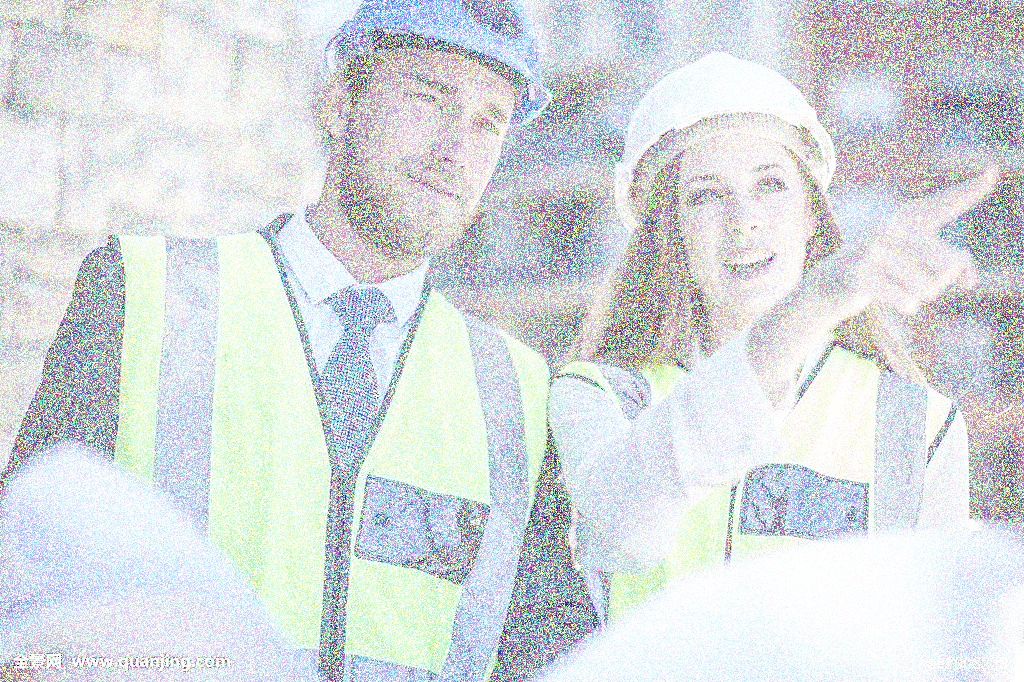helmet: (303, 0, 555, 257), (609, 49, 840, 312)
vest: (0, 220, 556, 682), (543, 320, 976, 669)
